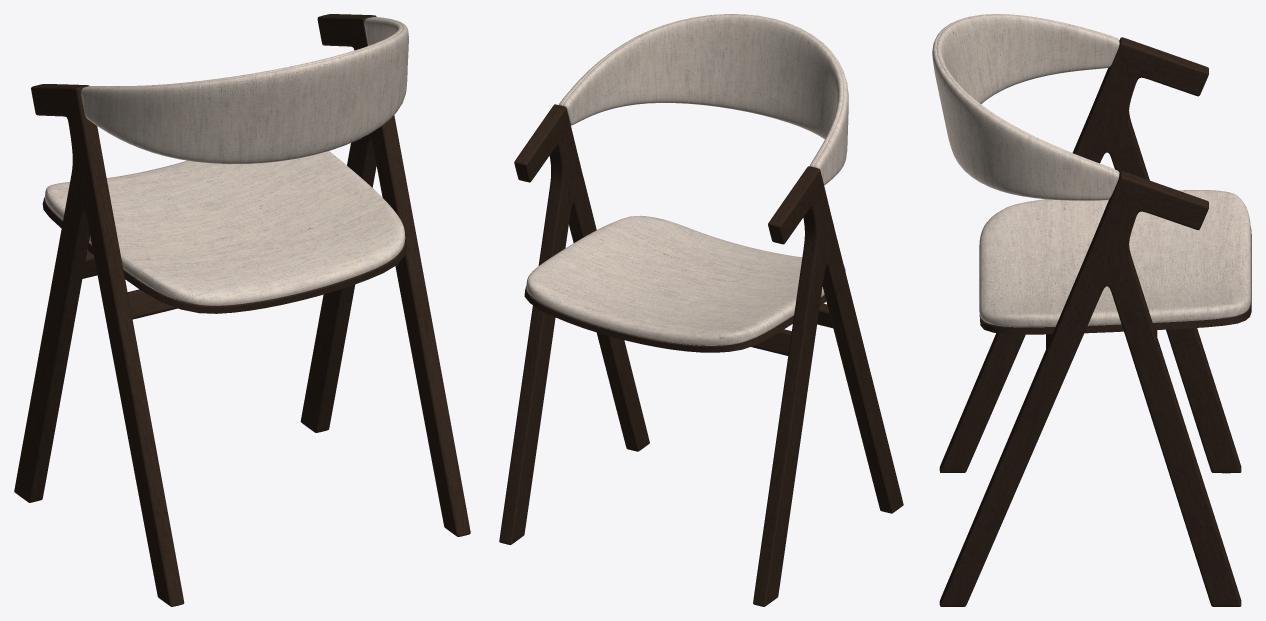
File: sedia 2.glb
3 views of the same model, side by side, from view 1: azimuth 30°, elevation 25°; view 2: azimuth 150°, elevation 25°; view 3: azimuth 270°, elevation 25° (orthographic). The views are drawn at different scales.
Visible parts, largest first — view 1: Horn chair; view 2: Horn chair; view 3: Horn chair.
Boxes of the visible parts, x1,y1,x2,y2 form: Horn chair: [14, 14, 470, 606]; Horn chair: [499, 14, 903, 606]; Horn chair: [932, 14, 1251, 606].
Size of the model in its own units: 0.503 by 0.8169 by 0.4826.
2 materials, 2 textured.
